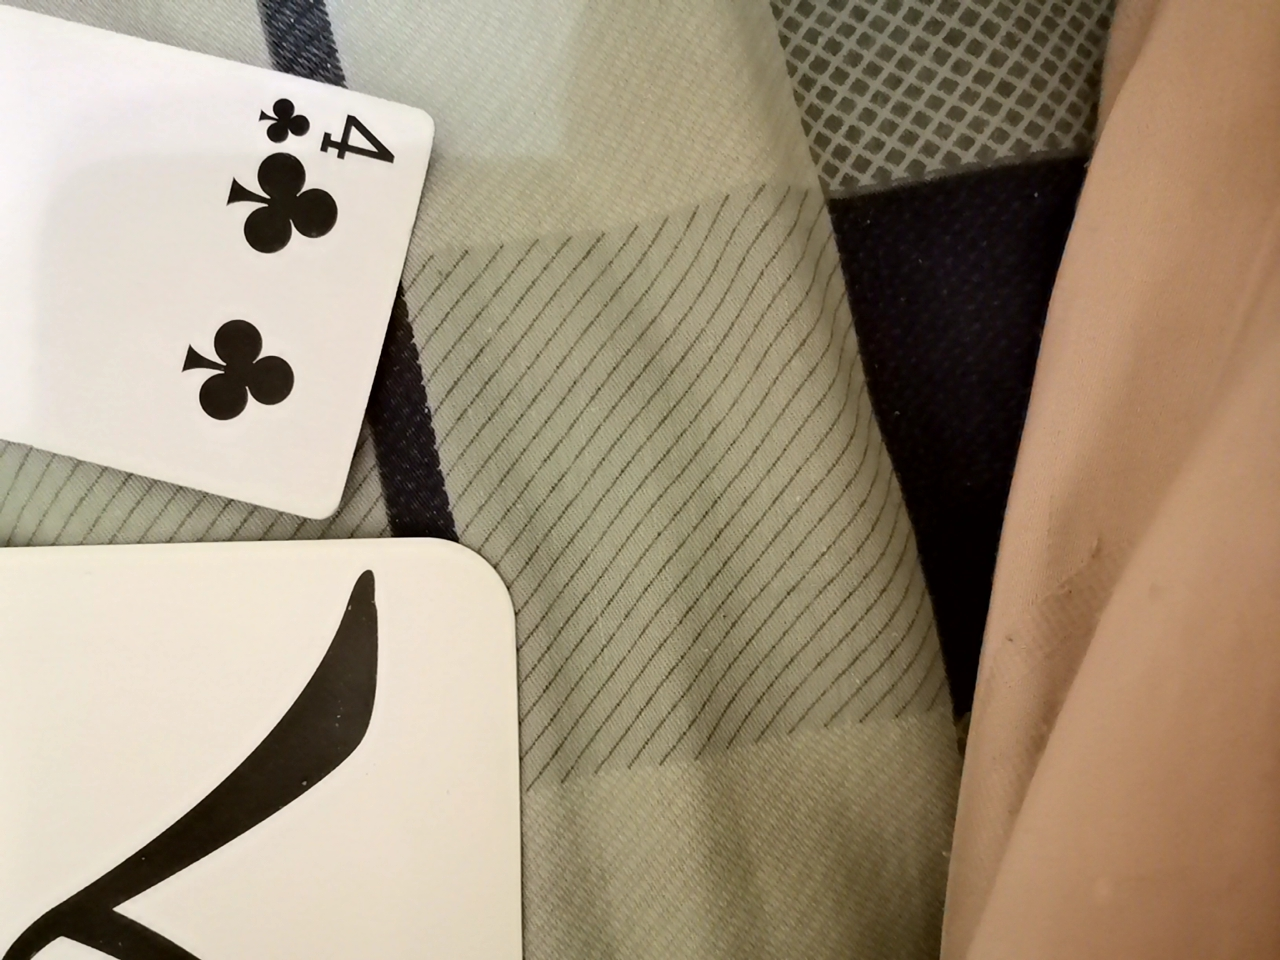mh 4: (0, 10, 426, 522)
